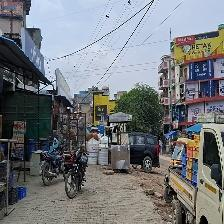Bike: (57, 140, 90, 199), (36, 123, 67, 184)
Car: (160, 117, 223, 224)
Cart: (108, 102, 132, 173)
Road: (7, 167, 161, 223)
